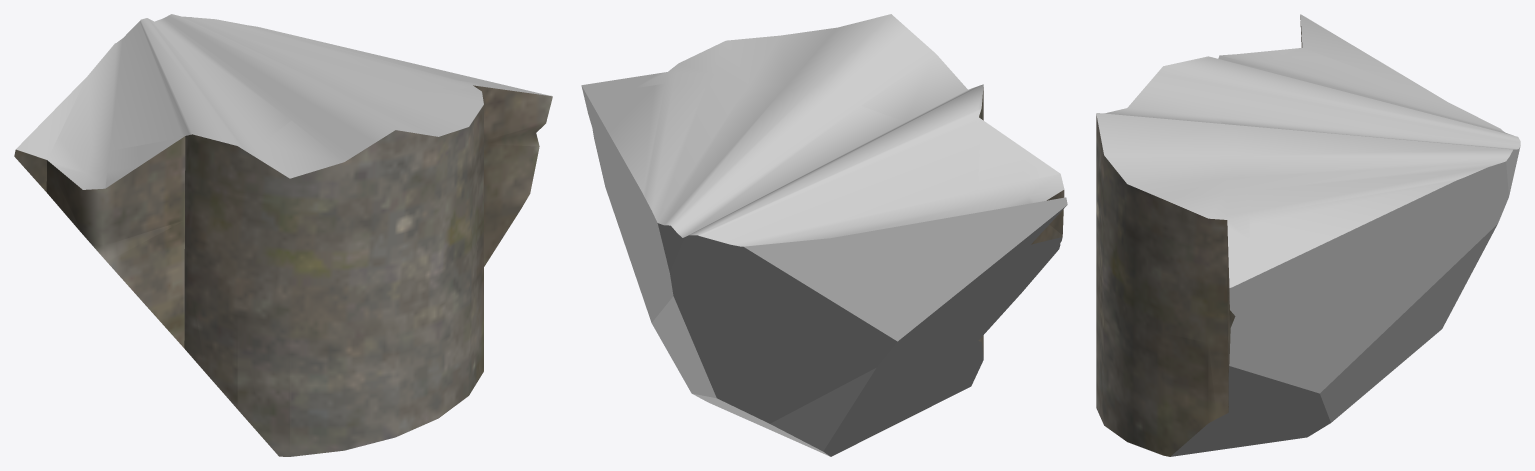
The model's file is ColumnDamage08_46.fbx.
3 renders of one model, left to right at view 1: azimuth 30°, elevation 25°; view 2: azimuth 150°, elevation 25°; view 3: azimuth 270°, elevation 25°, orthographic. The views are drawn at different scales.
Parts seen in each view (by area): view 1: ColumnDamage08_DM.046; view 2: ColumnDamage08_DM.046; view 3: ColumnDamage08_DM.046.
Boxes of the visible parts, left/top/right/bottom form: ColumnDamage08_DM.046: left=14, top=14, right=552, bottom=456; ColumnDamage08_DM.046: left=581, top=14, right=1067, bottom=456; ColumnDamage08_DM.046: left=1096, top=14, right=1520, bottom=456.
Bounding box in the file's own units: 210 × 128 × 161.
